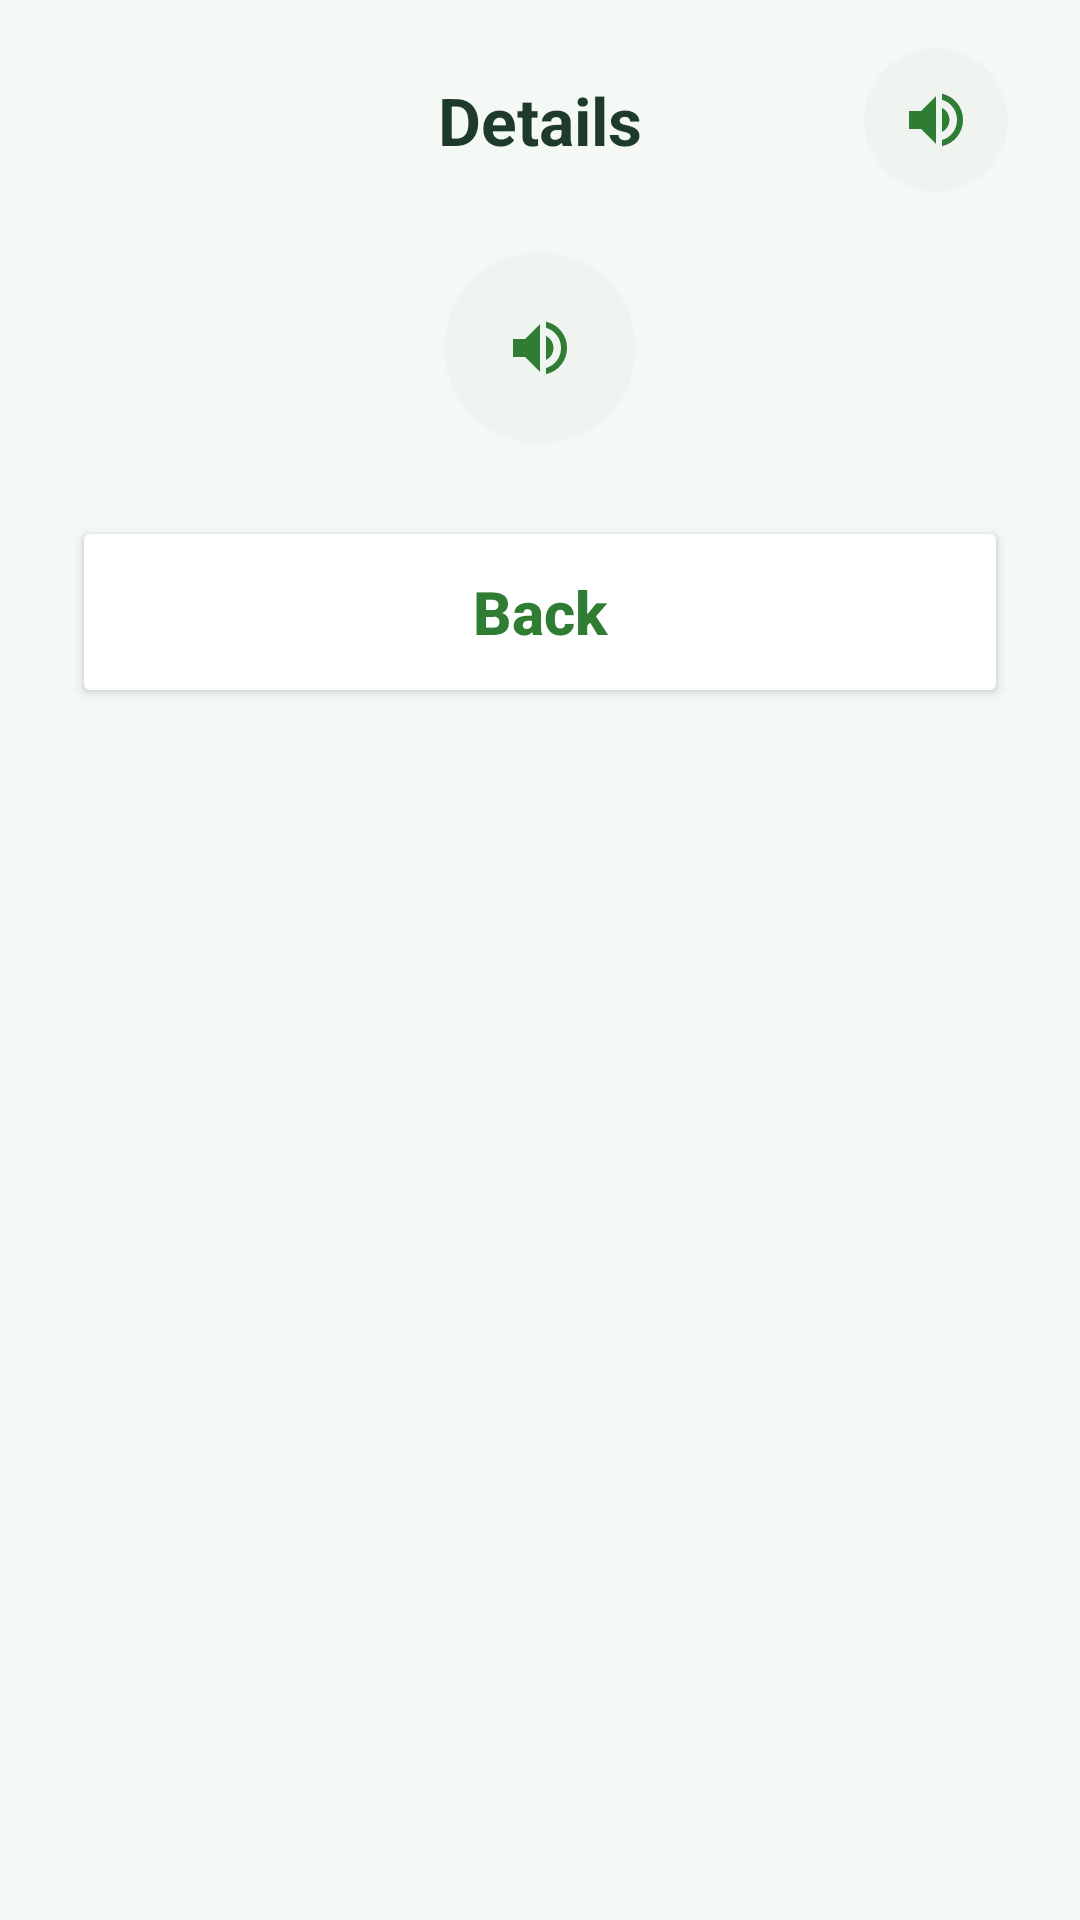

Where icons sit on this 1080×1920 app screen, as (x1,y1,x2,y2):
Listen: (909,93,963,146), (513,321,567,374)
